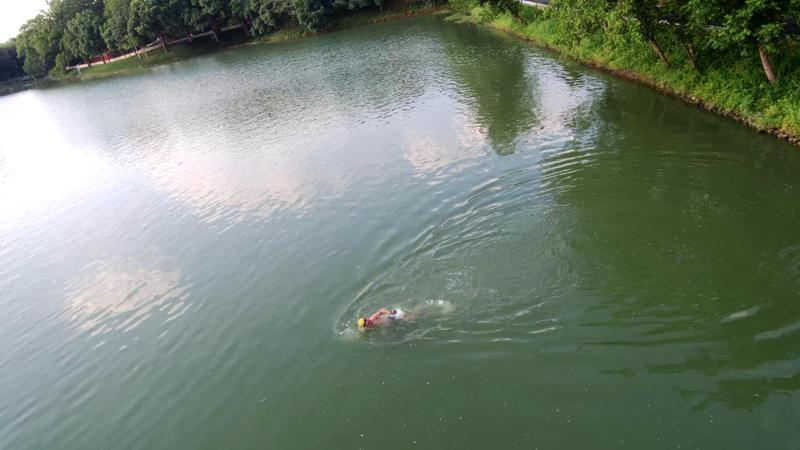swimmers: (357, 305, 422, 331)
